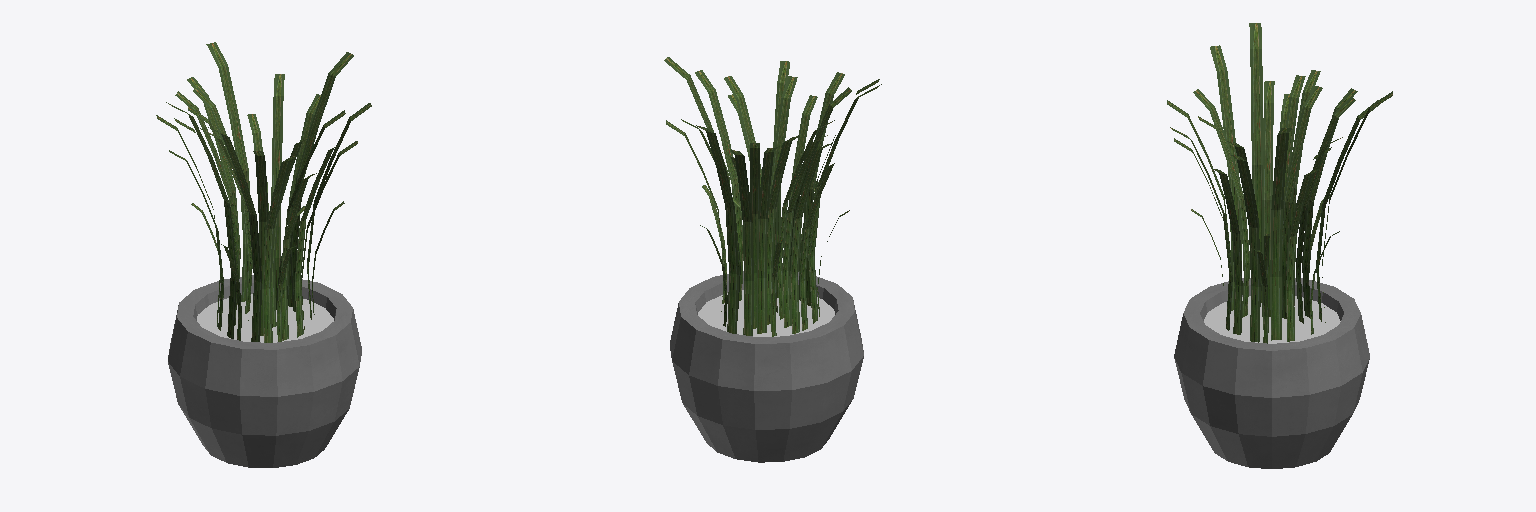
The picture shows the model from 3 angles: view 1: azimuth 30°, elevation 25°; view 2: azimuth 150°, elevation 25°; view 3: azimuth 270°, elevation 25°; orthographic projection.
Parts seen in each view (by area): view 1: Cylinder, Plane.015_Plane.031, Plane.008_Plane.024, Plane.009_Plane.025, Plane.013_Plane.029, Plane.012_Plane.028, Plane.019_Plane.035, Plane.006_Plane.022, Plane.010_Plane.026, Plane.018_Plane.034, Plane.002_Plane.018, Plane.001_Plane.017 (+4 smaller); view 2: Cylinder, Plane.015_Plane.031, Plane, Plane.001_Plane.017, Plane.003_Plane.019, Plane.016_Plane.032, Plane.005_Plane.021, Plane.022_Plane.038, Plane.002_Plane.018, Plane.019_Plane.035, Plane.021_Plane.037, Plane.009_Plane.025 (+6 smaller); view 3: Cylinder, Plane.013_Plane.029, Plane.019_Plane.035, Plane.020_Plane.036, Plane.016_Plane.032, Plane.022_Plane.038, Plane.008_Plane.024, Plane.010_Plane.026, Plane.011_Plane.027, Plane.007_Plane.023, Plane, Plane.002_Plane.018 (+4 smaller).
Boxes of the visible parts, x1,y1,x2,y2 form: Cylinder: [168, 275, 361, 467]; Plane.015_Plane.031: [206, 42, 249, 301]; Plane.008_Plane.024: [208, 127, 261, 341]; Plane.009_Plane.025: [262, 155, 298, 342]; Plane.013_Plane.029: [290, 52, 353, 311]; Plane.012_Plane.028: [271, 74, 284, 309]; Plane.019_Plane.035: [166, 102, 236, 338]; Plane.006_Plane.022: [295, 144, 340, 337]; Plane.010_Plane.026: [253, 151, 268, 335]; Plane.018_Plane.034: [281, 173, 316, 340]; Plane.002_Plane.018: [193, 87, 252, 313]; Plane.001_Plane.017: [187, 77, 240, 304]; Cylinder: [670, 271, 863, 462]; Plane.015_Plane.031: [696, 125, 738, 333]; Plane: [757, 147, 777, 333]; Plane.001_Plane.017: [731, 150, 753, 335]; Plane.003_Plane.019: [790, 143, 832, 333]; Plane.016_Plane.032: [695, 70, 743, 300]; Plane.005_Plane.021: [782, 135, 827, 327]; Plane.022_Plane.038: [767, 136, 799, 324]; Plane.002_Plane.018: [750, 143, 759, 328]; Plane.019_Plane.035: [809, 84, 881, 323]; Plane.021_Plane.037: [769, 76, 797, 312]; Plane.009_Plane.025: [802, 72, 844, 305]; Cylinder: [1174, 278, 1369, 468]; Plane.013_Plane.029: [1270, 128, 1291, 340]; Plane.019_Plane.035: [1249, 23, 1262, 302]; Plane.020_Plane.036: [1262, 81, 1274, 316]; Plane.016_Plane.032: [1231, 155, 1260, 342]; Plane.022_Plane.038: [1282, 86, 1322, 318]; Plane.008_Plane.024: [1210, 45, 1241, 310]; Plane.010_Plane.026: [1193, 89, 1249, 317]; Plane.011_Plane.027: [1286, 169, 1319, 341]; Plane.007_Plane.023: [1212, 168, 1242, 334]; Plane: [1302, 88, 1357, 317]; Plane.002_Plane.018: [1296, 97, 1355, 323].
Bounding box in the file's own units: 3.2 × 5.69 × 3.16.
Materials: 3 (2 with a texture image).